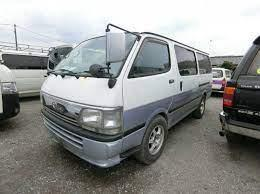Van: (43, 23, 214, 167)
